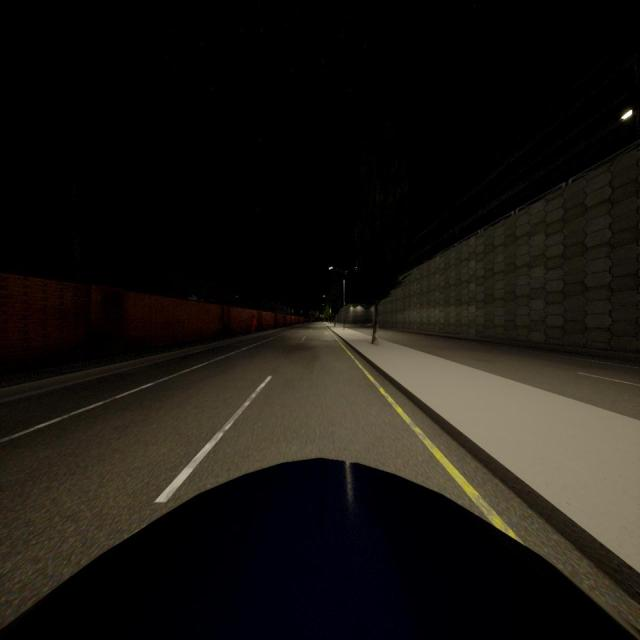Pedestrian: (251, 314, 257, 332)
Vehicle: (0, 459, 640, 640)
